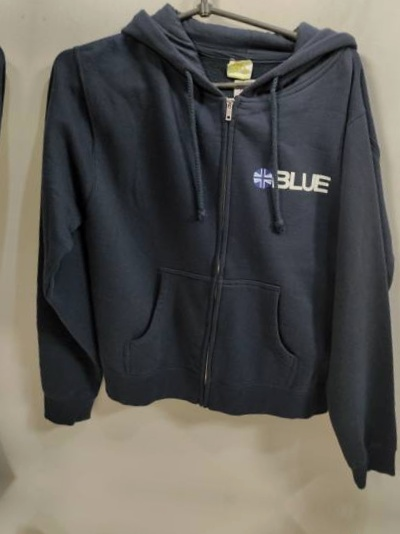Hoodie: (0, 0, 400, 490), (0, 0, 33, 448), (0, 502, 396, 534)
